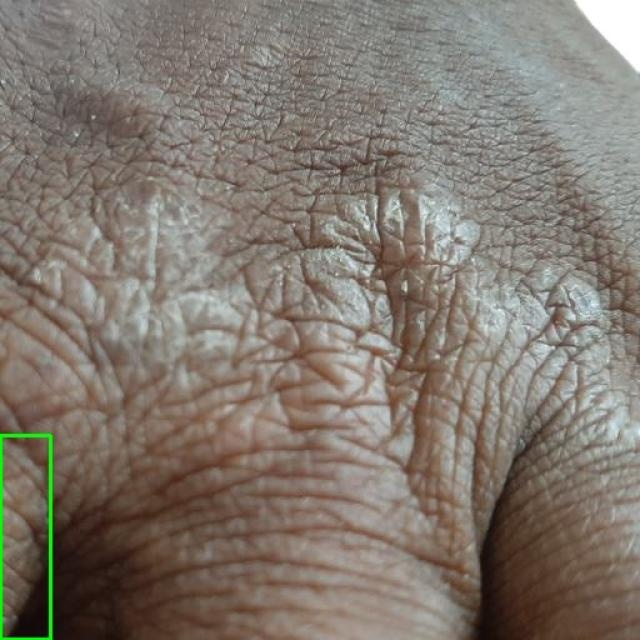Contact Dermatitis: (0, 435, 50, 639)
